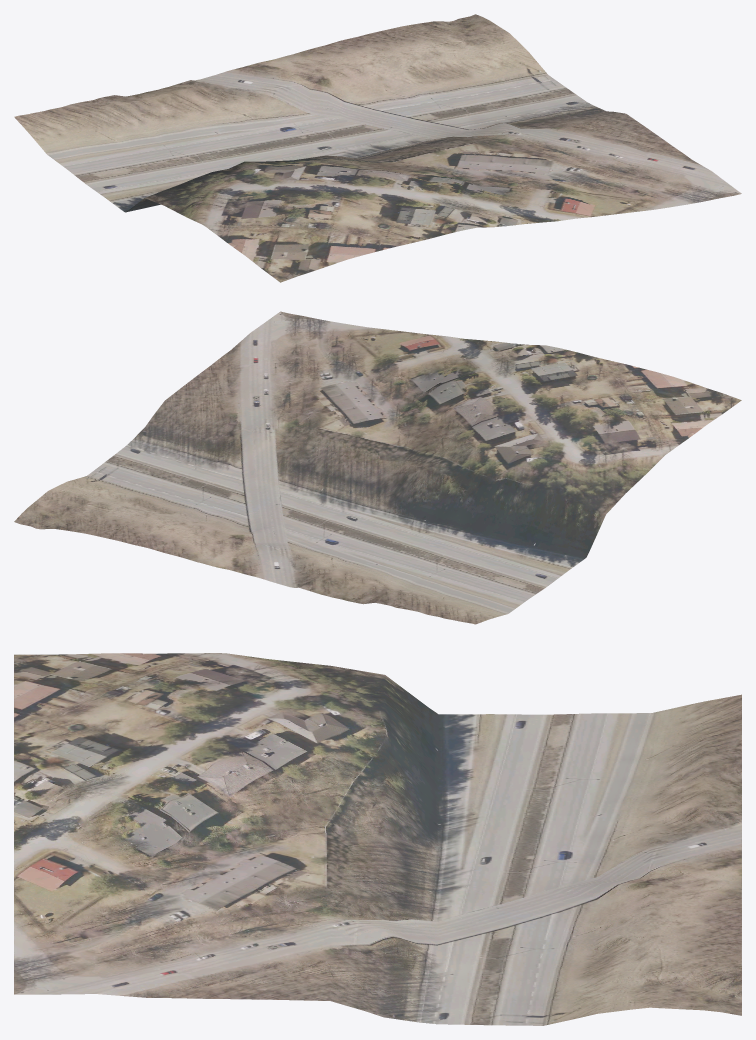
The model's file is CM_Terrain_24491892_6817746.fbx.
3 renders of one model, top to bottom at view 1: azimuth 30°, elevation 25°; view 2: azimuth 150°, elevation 25°; view 3: azimuth 270°, elevation 25°, orthographic. The views are drawn at different scales.
Visible parts, largest first — view 1: CM_Terrain_24491892_6817746_LOD0; view 2: CM_Terrain_24491892_6817746_LOD0; view 3: CM_Terrain_24491892_6817746_LOD0.
Boxes of the visible parts, <box> form: CM_Terrain_24491892_6817746_LOD0: <box>14,14,741,282</box>; CM_Terrain_24491892_6817746_LOD0: <box>14,311,741,624</box>; CM_Terrain_24491892_6817746_LOD0: <box>14,653,741,1025</box>.
Size of what is drawn, in the model's own units: 205 by 25.27 by 205.
